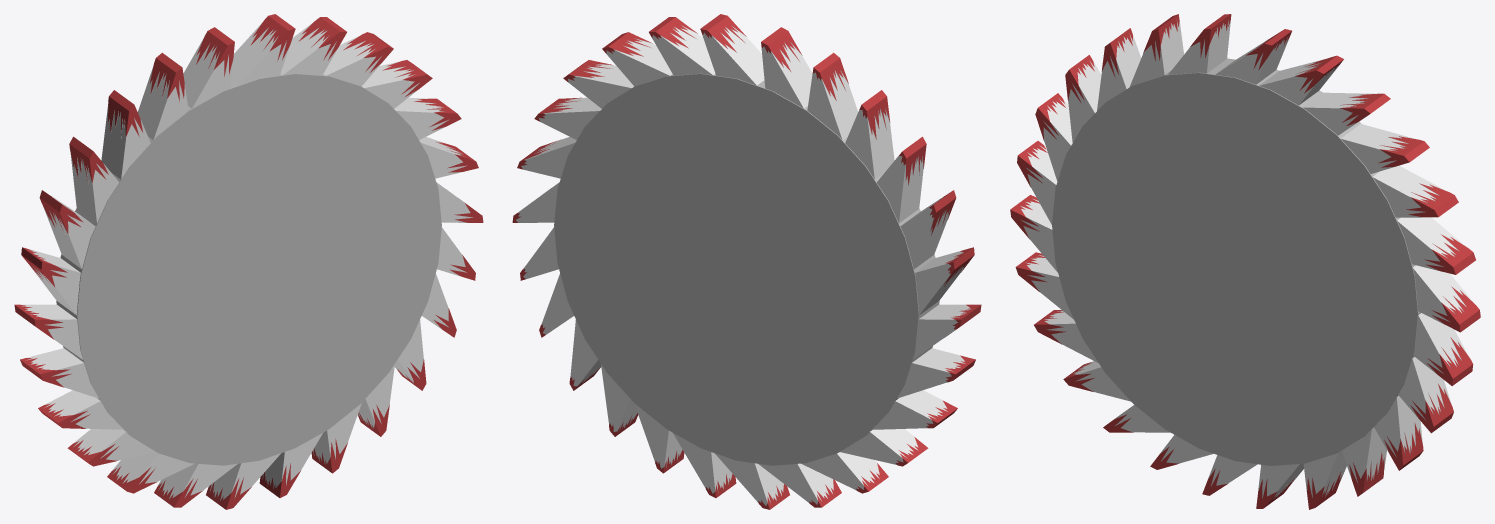
Rendered from CircularSaw.fbx.
The picture shows the model from 3 angles, left to right: view 1: azimuth 30°, elevation 25°; view 2: azimuth 150°, elevation 25°; view 3: azimuth 330°, elevation 25°; orthographic projection.
Parts seen in each view (by area): view 1: Circle, Blade; view 2: Circle, Blade; view 3: Circle, Blade.
Boxes of the visible parts, x1,y1,x2,y2 form: Circle: (56, 73, 441, 465); Blade: (14, 14, 483, 509); Circle: (554, 73, 939, 465); Blade: (512, 14, 981, 509); Circle: (1052, 58, 1420, 465); Blade: (1010, 14, 1480, 509).
Size of the model in its own units: 61.52 by 61.23 by 5.
